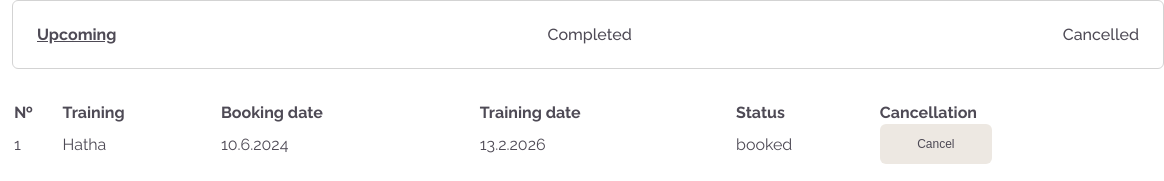
Test case: Bookings › renders correct rows for cancelled bookings
This screenshot has width=1164, height=181.
Click the list item "Cancelled". click: (1101, 34)
box: [1063,25,1139,44]
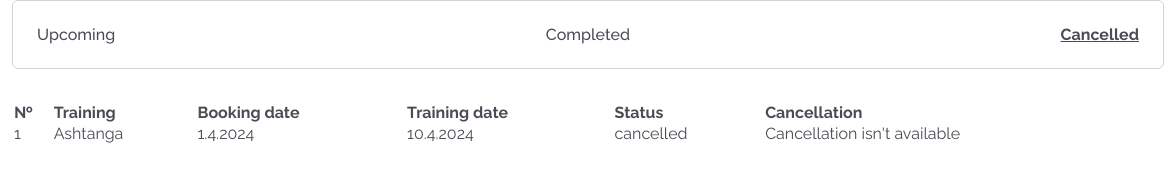
Expected: the row that starts with "Ashtanga" shows "cancelled", [615,124,688,143]
